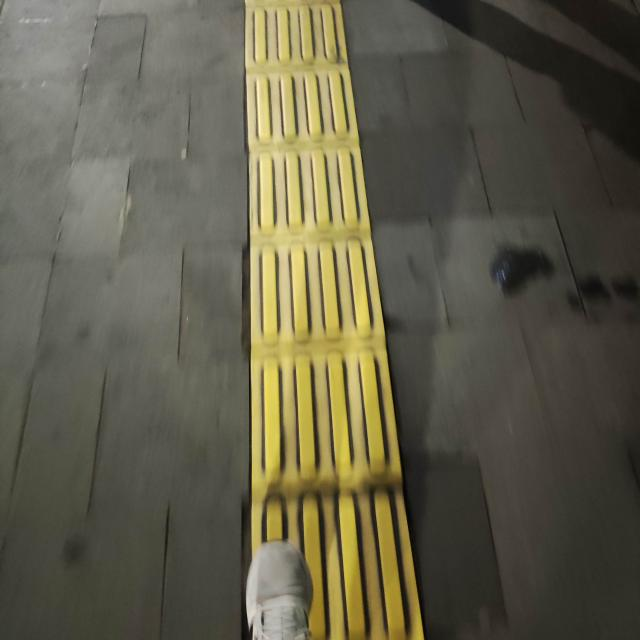lurus: (227, 11, 397, 505)
